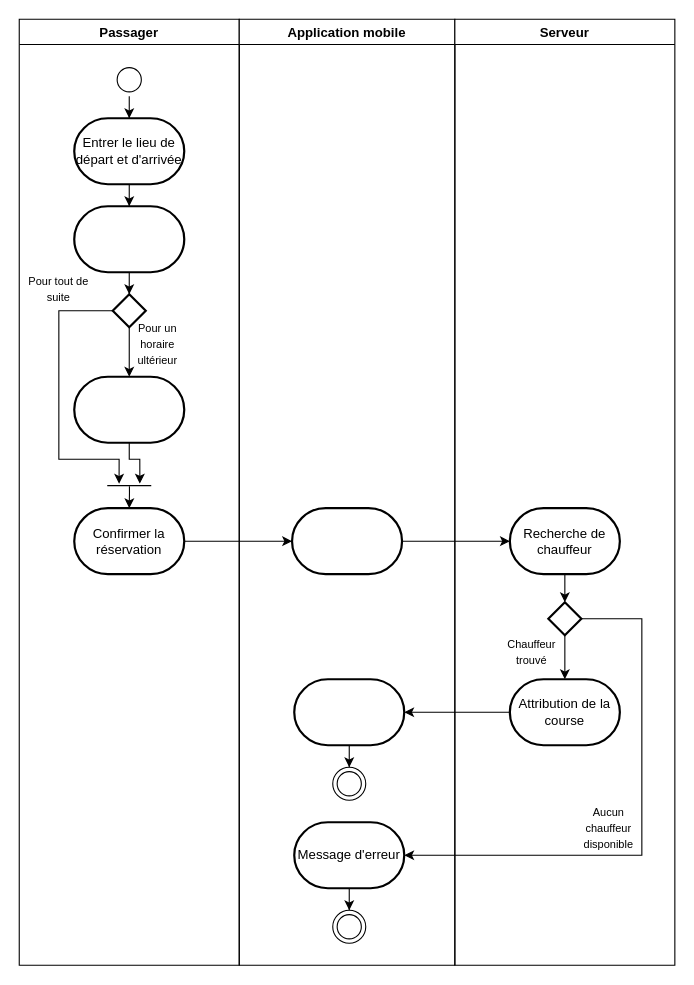
The diagram is 694 pixels wide and 985 high, and some of its shapes have lost their labels. Each missing label, with the centre of its shape:
Message de confirmation: pixel 349 712
Sélectionner une date et heure: pixel 129 409
Sélectionner une offre: pixel 129 239
Transmission de la réservation: pixel 346 541
